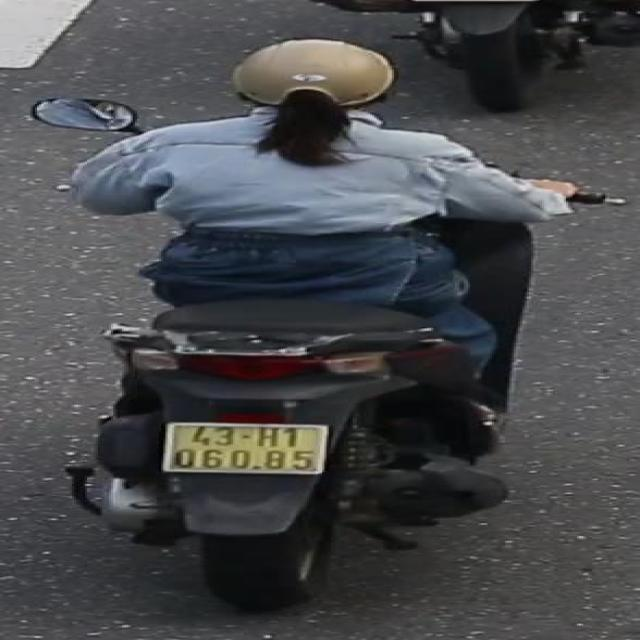LP: (161, 414, 335, 478)
helmet: (228, 34, 402, 112)
